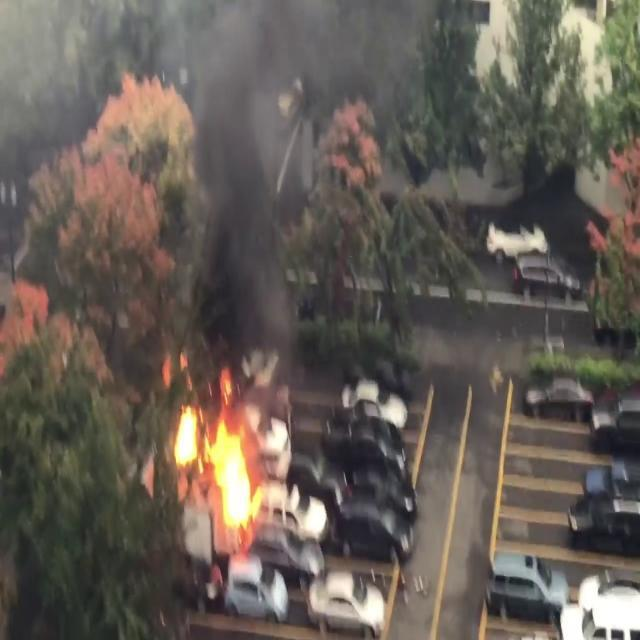Fire: (171, 367, 291, 537)
Smoke: (179, 2, 312, 374)
